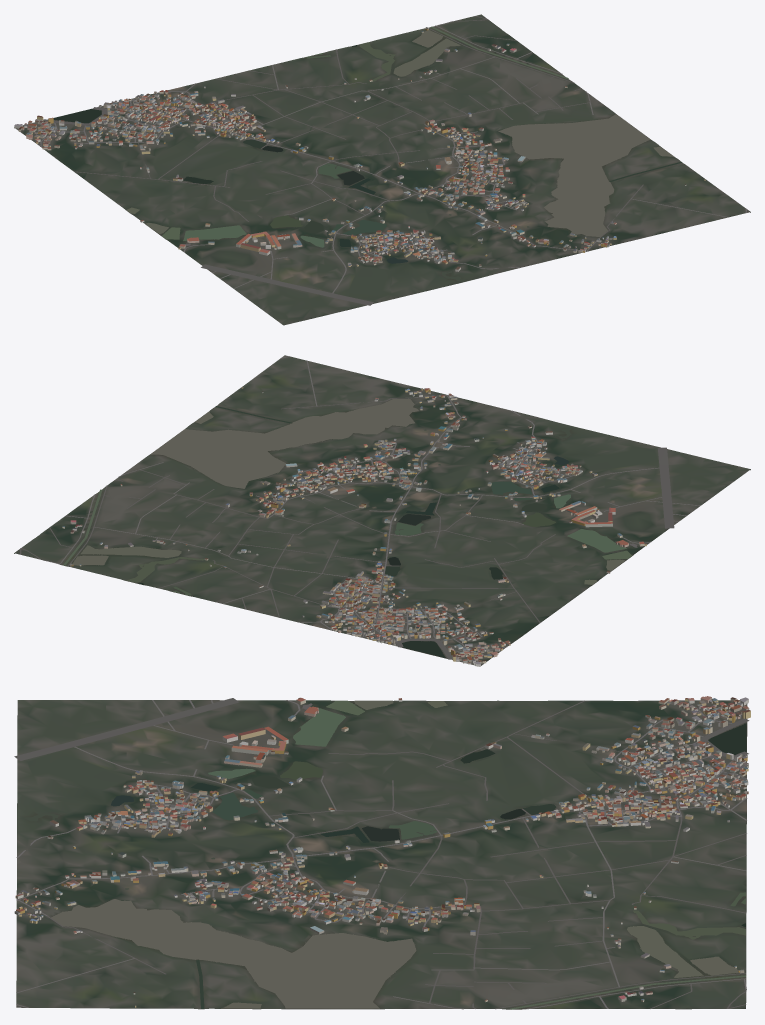
3 renders of one model, top to bottom at view 1: azimuth 30°, elevation 25°; view 2: azimuth 150°, elevation 25°; view 3: azimuth 270°, elevation 25°, orthographic. The views are drawn at different scales.
Parts seen in each view (by area): view 1: ground, buildings, water, roads; view 2: ground, water, buildings, roads; view 3: ground, water, buildings, roads.
Part boxes in pixels (bbox=[...]): ground: bbox=[14, 14, 750, 325]; buildings: bbox=[14, 27, 705, 271]; water: bbox=[53, 26, 682, 280]; roads: bbox=[38, 16, 746, 305]; ground: bbox=[14, 355, 750, 666]; water: bbox=[37, 398, 637, 657]; buildings: bbox=[62, 387, 646, 666]; roads: bbox=[20, 356, 700, 659]; ground: bbox=[16, 700, 747, 1009]; water: bbox=[24, 700, 746, 1009]; buildings: bbox=[14, 696, 750, 1007]; roads: bbox=[14, 698, 749, 1009].
Bounding box in the file's own units: 1412 × 20.63 × 1416.
